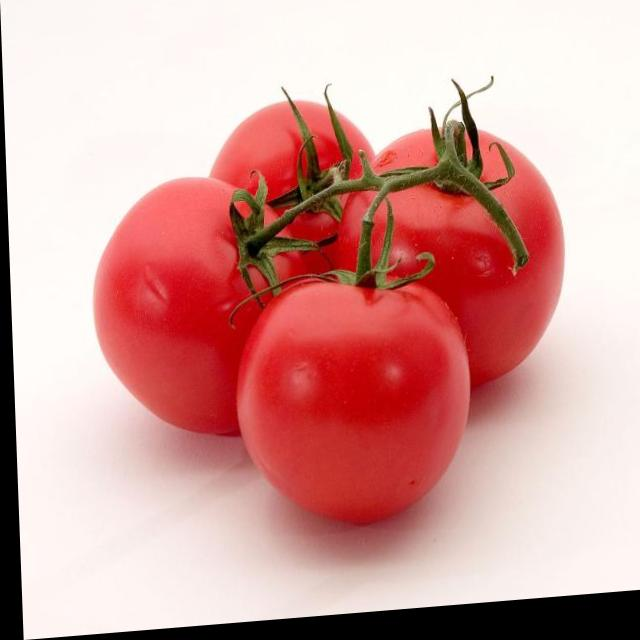kirmizi: (80, 44, 572, 561)
